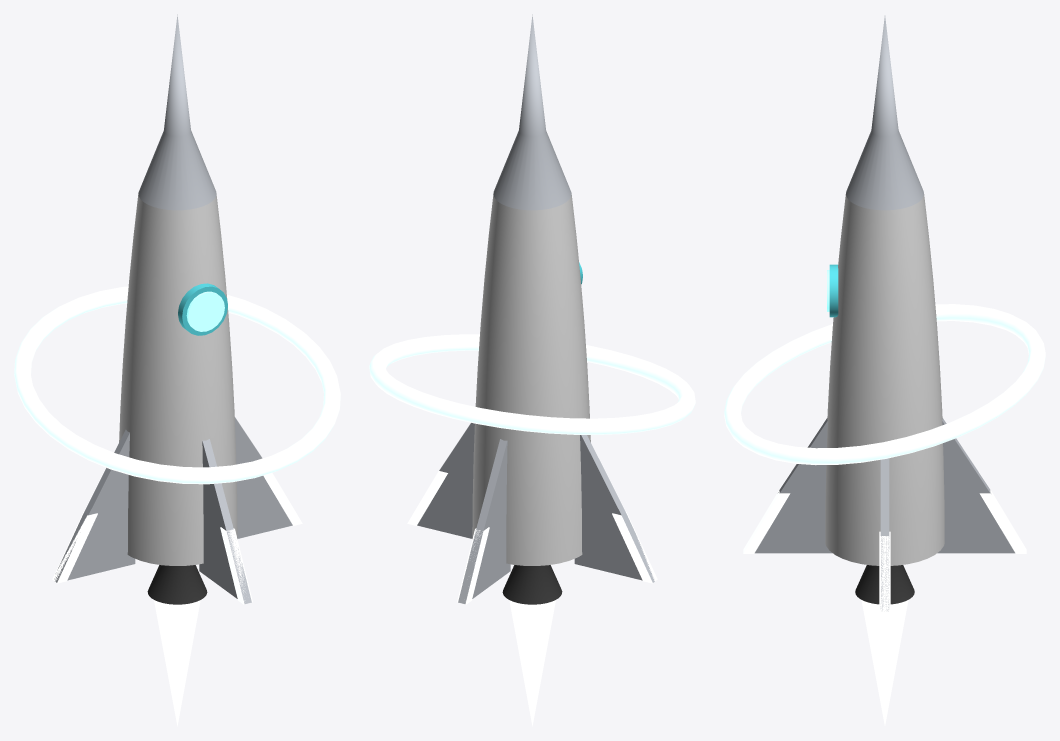
File: Rocket_35_CyanHalo.fbx
3 views of the same model, side by side, from view 1: azimuth 30°, elevation 25°; view 2: azimuth 150°, elevation 25°; view 3: azimuth 270°, elevation 25° (orthographic).
Visible parts, largest first — view 1: R35_Body, R35_Halo_1, R35_Nose, R35_Fin_2, R35_Fin_3, R35_Fin_4, R35_Flame_1, R35_Nozzle_1, R35_Window_1, R35_FinGlow_2, R35_FinGlow_3, R35_WindowFrame_1 (+1 smaller); view 2: R35_Body, R35_Halo_1, R35_Nose, R35_Fin_2, R35_Fin_1, R35_Fin_4, R35_Flame_1, R35_Nozzle_1, R35_FinGlow_2, R35_FinGlow_1, R35_FinGlow_4; view 3: R35_Body, R35_Halo_1, R35_Nose, R35_Fin_1, R35_Fin_3, R35_Flame_1, R35_Nozzle_1, R35_Fin_4, R35_FinGlow_4, R35_FinGlow_1, R35_FinGlow_3, R35_WindowFrame_1.
Part boxes in pixels (left/top/right/bottom): R35_Body: left=119, top=193, right=237, bottom=565; R35_Halo_1: left=14, top=286, right=340, bottom=484; R35_Nose: left=138, top=14, right=216, bottom=210; R35_Fin_2: left=54, top=429, right=135, bottom=582; R35_Fin_3: left=199, top=439, right=251, bottom=603; R35_Fin_4: left=235, top=417, right=292, bottom=538; R35_Flame_1: left=154, top=600, right=200, bottom=726; R35_Nozzle_1: left=147, top=565, right=207, bottom=604; R35_Window_1: left=186, top=291, right=224, bottom=331; R35_FinGlow_2: left=52, top=511, right=97, bottom=583; R35_FinGlow_3: left=220, top=527, right=252, bottom=604; R35_WindowFrame_1: left=178, top=283, right=227, bottom=335; R35_Body: left=472, top=193, right=590, bottom=565; R35_Halo_1: left=369, top=334, right=695, bottom=434; R35_Nose: left=493, top=14, right=571, bottom=210; R35_Fin_2: left=574, top=435, right=654, bottom=582; R35_Fin_1: left=458, top=439, right=510, bottom=603; R35_Fin_4: left=417, top=423, right=474, bottom=538; R35_Flame_1: left=509, top=600, right=555, bottom=726; R35_Nozzle_1: left=502, top=565, right=562, bottom=604; R35_FinGlow_2: left=612, top=511, right=657, bottom=583; R35_FinGlow_1: left=457, top=527, right=489, bottom=604; R35_FinGlow_4: left=407, top=471, right=447, bottom=525; R35_Body: left=825, top=194, right=944, bottom=565; R35_Halo_1: left=724, top=304, right=1045, bottom=465; R35_Nose: left=846, top=15, right=923, bottom=210; R35_Fin_1: left=937, top=418, right=1014, bottom=553; R35_Fin_3: left=755, top=418, right=832, bottom=553; R35_Flame_1: left=861, top=600, right=908, bottom=725; R35_Nozzle_1: left=855, top=565, right=914, bottom=604; R35_Fin_4: left=880, top=458, right=889, bottom=611; R35_FinGlow_4: left=879, top=531, right=890, bottom=611; R35_FinGlow_1: left=979, top=489, right=1026, bottom=553; R35_FinGlow_3: left=743, top=489, right=790, bottom=553; R35_WindowFrame_1: left=829, top=264, right=838, bottom=317.
Bounding box in the file's own units: 4.64 × 11.1 × 4.54.
